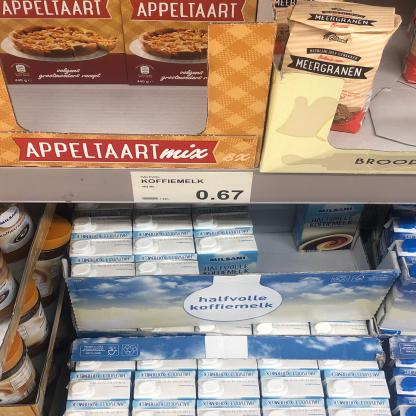prtg: (131, 172, 255, 204)
